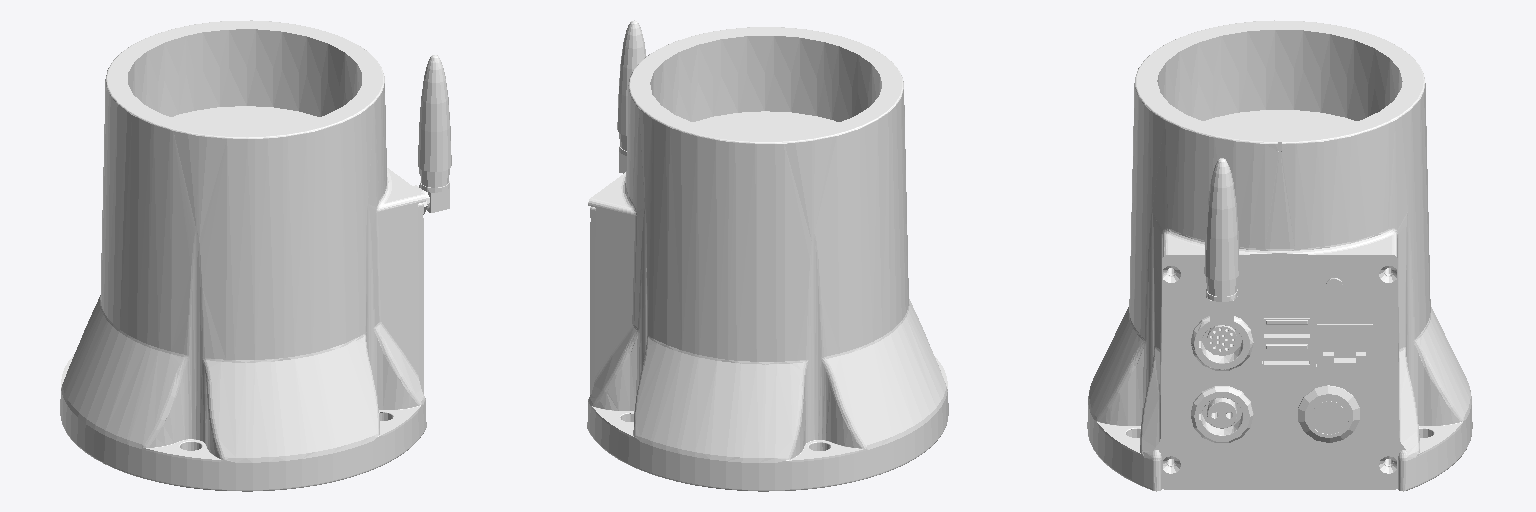
The robot description file, URDF, robot "rm_63_6f_description":
<?xml version="1.0" encoding="utf-8"?>
<!-- This URDF was automatically created by SolidWorks to URDF Exporter! Originally created by [author] ([email redacted]) 
     Commit Version: 1.6.0-1-g15f4949  Build Version: 1.6.7594.29634
     For more information, please see http://wiki.ros.org/sw_urdf_exporter -->
<robot
  name="rm_63_6f_description">
  <link
    name="base_link">
    <inertial>
      <origin
        xyz="0.001418 -0.00010076 0.050086"
        rpy="0 0 0" />
      <mass
        value="0.66248" />
      <inertia
        ixx="0.00099641"
        ixy="3.2555E-06"
        ixz="-1.005E-05"
        iyy="0.0010163"
        iyz="1.2819E-06"
        izz="0.00067925" />
    </inertial>
    <visual>
      <origin
        xyz="0 0 0"
        rpy="0 0 0" />
      <geometry>
        <mesh
          filename="package://rm_63_6f_description/meshes/base_link.STL" />
      </geometry>
      <material
        name="">
        <color
          rgba="1 1 1 1" />
      </material>
    </visual>
    <collision>
      <origin
        xyz="0 0 0"
        rpy="0 0 0" />
      <geometry>
        <mesh
          filename="package://rm_63_6f_description/meshes/base_link.STL" />
      </geometry>
    </collision>
  </link>
  <link
    name="Link1">
    <inertial>
      <origin
        xyz="-0.043398 -0.0074204 -0.012727"
        rpy="0 0 0" />
      <mass
        value="0.92308" />
      <inertia
        ixx="0.00093348"
        ixy="-0.00032512"
        ixz="0.00049759"
        iyy="0.0021248"
        iyz="0.00010864"
        izz="0.001984" />
    </inertial>
    <visual>
      <origin
        xyz="0 0 0"
        rpy="0 0 0" />
      <geometry>
        <mesh
          filename="package://rm_63_6f_description/meshes/Link1.STL" />
      </geometry>
      <material
        name="">
        <color
          rgba="1 1 1 1" />
      </material>
    </visual>
    <collision>
      <origin
        xyz="0 0 0"
        rpy="0 0 0" />
      <geometry>
        <mesh
          filename="package://rm_63_6f_description/meshes/Link1.STL" />
      </geometry>
    </collision>
  </link>
  <joint
    name="joint1"
    type="revolute">
    <origin
      xyz="0 0 0.172"
      rpy="0 0 0" />
    <parent
      link="base_link" />
    <child
      link="Link1" />
    <axis
      xyz="0 0 1" />
    <limit
      lower="-3.107"
      upper="3.107"
      effort="100"
      velocity="1" />
  </joint>
  <link
    name="Link2">
    <inertial>
      <origin
        xyz="0.17251 -1.2589E-07 -0.090386"
        rpy="0 0 0" />
      <mass
        value="1.5577" />
      <inertia
        ixx="0.0009796"
        ixy="-1.2068E-07"
        ixz="-2.8708E-05"
        iyy="0.026357"
        iyz="1.3036E-09"
        izz="0.026573" />
    </inertial>
    <visual>
      <origin
        xyz="0 0 0"
        rpy="0 0 0" />
      <geometry>
        <mesh
          filename="package://rm_63_6f_description/meshes/Link2.STL" />
      </geometry>
      <material
        name="">
        <color
          rgba="1 1 1 1" />
      </material>
    </visual>
    <collision>
      <origin
        xyz="0 0 0"
        rpy="0 0 0" />
      <geometry>
        <mesh
          filename="package://rm_63_6f_description/meshes/Link2.STL" />
      </geometry>
    </collision>
  </link>
  <joint
    name="joint2"
    type="revolute">
    <origin
      xyz="-0.086 0 0"
      rpy="-1.5708 -1.5708 0" />
    <parent
      link="Link1" />
    <child
      link="Link2" />
    <axis
      xyz="0 0 1" />
    <limit
      lower="-3.107"
      upper="3.107"
      effort="100"
      velocity="1" />
  </joint>
  <link
    name="Link3">
    <inertial>
      <origin
        xyz="0.036479 -0.021595 -0.0052425"
        rpy="0 0 0" />
      <mass
        value="0.71556" />
      <inertia
        ixx="0.00081897"
        ixy="0.0004323"
        ixz="-0.00015721"
        iyy="0.0011167"
        iyz="9.5746E-05"
        izz="0.0013828" />
    </inertial>
    <visual>
      <origin
        xyz="0 0 0"
        rpy="0 0 0" />
      <geometry>
        <mesh
          filename="package://rm_63_6f_description/meshes/Link3.STL" />
      </geometry>
      <material
        name="">
        <color
          rgba="1 1 1 1" />
      </material>
    </visual>
    <collision>
      <origin
        xyz="0 0 0"
        rpy="0 0 0" />
      <geometry>
        <mesh
          filename="package://rm_63_6f_description/meshes/Link3.STL" />
      </geometry>
    </collision>
  </link>
  <joint
    name="joint3"
    type="revolute">
    <origin
      xyz="0.38 0 -0.00010023"
      rpy="0 0 1.5708" />
    <parent
      link="Link2" />
    <child
      link="Link3" />
    <axis
      xyz="0 0 1" />
    <limit
      lower="-3.107"
      upper="2.531"
      effort="100"
      velocity="1" />
  </joint>
  <link
    name="Link4">
    <inertial>
      <origin
        xyz="-5.2717E-06 -0.033557 -0.18296"
        rpy="0 0 0" />
      <mass
        value="0.69692" />
      <inertia
        ixx="0.0071528"
        ixy="-6.0923E-09"
        ixz="8.8515E-08"
        iyy="0.006708"
        iyz="0.0016525"
        izz="0.00074662" />
    </inertial>
    <visual>
      <origin
        xyz="0 0 0"
        rpy="0 0 0" />
      <geometry>
        <mesh
          filename="package://rm_63_6f_description/meshes/Link4.STL" />
      </geometry>
      <material
        name="">
        <color
          rgba="1 1 1 1" />
      </material>
    </visual>
    <collision>
      <origin
        xyz="0 0 0"
        rpy="0 0 0" />
      <geometry>
        <mesh
          filename="package://rm_63_6f_description/meshes/Link4.STL" />
      </geometry>
    </collision>
  </link>
  <joint
    name="joint4"
    type="revolute">
    <origin
      xyz="0.069 -0.405 9.9684E-05"
      rpy="1.5708 0 0" />
    <parent
      link="Link3" />
    <child
      link="Link4" />
    <axis
      xyz="0 0 1" />
    <limit
      lower="-3.107"
      upper="3.107"
      effort="100"
      velocity="1" />
  </joint>
  <link
    name="Link5">
    <inertial>
      <origin
        xyz="-2.2615E-07 0.02789 -0.0066313"
        rpy="0 0 0" />
      <mass
        value="0.3567" />
      <inertia
        ixx="0.00041098"
        ixy="-8.4722E-09"
        ixz="-4.3897E-09"
        iyy="0.00017907"
        iyz="-8.7584E-05"
        izz="0.00038034" />
    </inertial>
    <visual>
      <origin
        xyz="0 0 0"
        rpy="0 0 0" />
      <geometry>
        <mesh
          filename="package://rm_63_6f_description/meshes/Link5.STL" />
      </geometry>
      <material
        name="">
        <color
          rgba="1 1 1 1" />
      </material>
    </visual>
    <collision>
      <origin
        xyz="0 0 0"
        rpy="0 0 0" />
      <geometry>
        <mesh
          filename="package://rm_63_6f_description/meshes/Link5.STL" />
      </geometry>
    </collision>
  </link>
  <joint
    name="joint5"
    type="revolute">
    <origin
      xyz="0 0 0"
      rpy="1.5708 0 3.1416" />
    <parent
      link="Link4" />
    <child
      link="Link5" />
    <axis
      xyz="0 0 1" />
    <limit
      lower="-3.107"
      upper="3.107"
      effort="100"
      velocity="1" />
  </joint>
  <link
    name="Link6">
    <inertial>
      <origin
        xyz="-0.00032091 0.00017748 -0.028468"
        rpy="0 0 0" />
      <mass
        value="0.14814" />
      <inertia
        ixx="7.2093E-05"
        ixy="-1.2989E-06"
        ixz="7.9524E-07"
        iyy="7.063E-05"
        iyz="-4.3017E-07"
        izz="6.2819E-05" />
    </inertial>
    <visual>
      <origin
        xyz="0 0 0"
        rpy="0 0 0" />
      <geometry>
        <mesh
          filename="package://rm_63_6f_description/meshes/Link6.STL" />
      </geometry>
      <material
        name="">
        <color
          rgba="1 1 1 1" />
      </material>
    </visual>
    <collision>
      <origin
        xyz="0 0 0"
        rpy="0 0 0" />
      <geometry>
        <mesh
          filename="package://rm_63_6f_description/meshes/Link6.STL" />
      </geometry>
    </collision>
  </link>
  <joint
    name="joint6"
    type="revolute">
    <origin
      xyz="0 0.1435 0"
      rpy="1.5708 0 -3.1416" />
    <parent
      link="Link5" />
    <child
      link="Link6" />
    <axis
      xyz="0 0 1" />
    <limit
      lower="-6.283"
      upper="6.283"
      effort="100"
      velocity="1" />
  </joint>
</robot>

--- What the picture shows (computed from the rendered views, not written in the file) ---
3 views of the same robot in one strip: view 1: azimuth 30°, elevation 25°; view 2: azimuth 150°, elevation 25°; view 3: azimuth 270°, elevation 25° (orthographic).
Model rm_63_6f_description with 7 links and 6 joints (6 revolute), rooted at base_link, posed all joints at 0.
Visible links, largest first — view 1: base_link; view 2: base_link; view 3: base_link.
Boxes of the visible links, x1=… form: base_link: x1=60, y1=20, x2=451, y2=491; base_link: x1=587, y1=20, x2=948, y2=491; base_link: x1=1087, y1=20, x2=1472, y2=491.
Bounding box of the posed robot: 0.1156 × 0.1099 × 0.1112 m (x, y, z).
1 mesh visuals loaded from 7 distinct referenced files (1 binary STL); not drawn: 6 (reference not matched to a file when rendering).